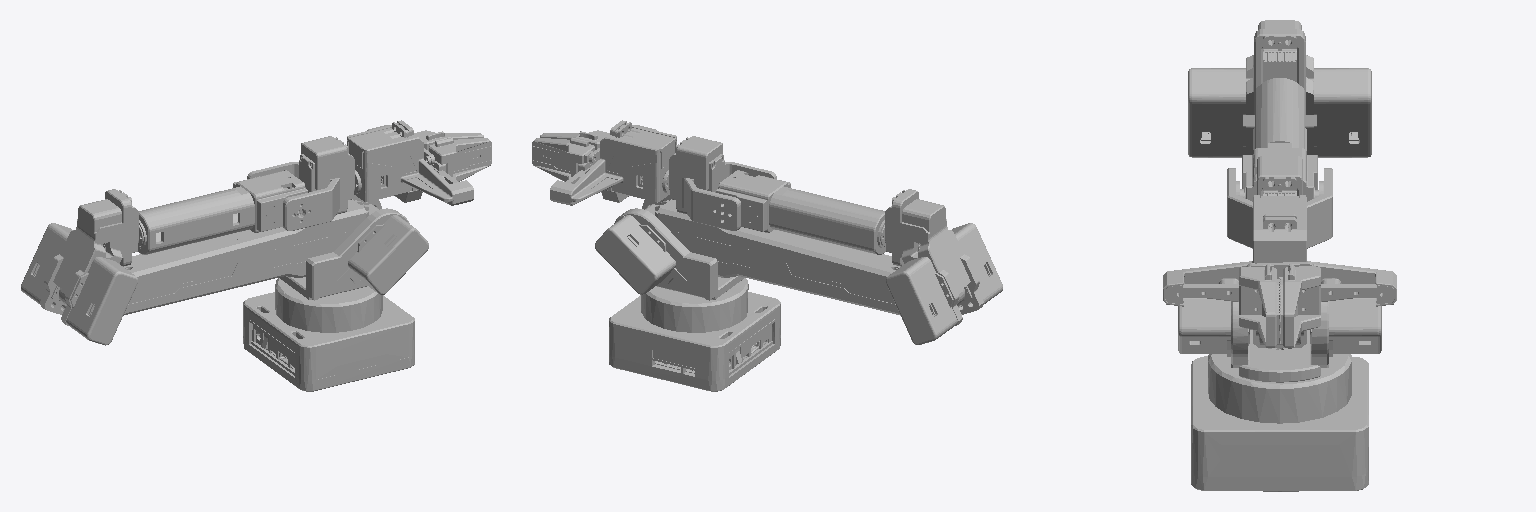
robot.urdf — zyarm_x1_standard:
<?xml version="1.0" encoding="utf-8"?>
<!-- This URDF was automatically created by SolidWorks to URDF Exporter! Originally created by Stephen Brawner (brawner@gmail.com) 
     Commit Version: 1.6.0-4-g7f85cfe  Build Version: 1.6.7995.38578
     For more information, please see http://wiki.ros.org/sw_urdf_exporter -->
<robot
  name="zyarm_x1_standard">
  <link
    name="base_link">
    <inertial>
      <origin
        xyz="0.00091157 -0.00062627 -0.075733"
        rpy="0 0 0" />
      <mass
        value="0.26029" />
      <inertia
        ixx="0.00028525"
        ixy="-9.6012E-07"
        ixz="4.2857E-06"
        iyy="0.00026365"
        iyz="-1.2773E-06"
        izz="0.00047532" />
    </inertial>
    <visual>
      <origin
        xyz="0 0 0"
        rpy="0 0 0" />
      <geometry>
        <mesh
          filename="package://zyarm_description/meshes/x1_standard/base_link.STL" />
      </geometry>
      <material
        name="">
        <color
          rgba="0.75294 0.75294 0.75294 1" />
      </material>
    </visual>
    <collision>
      <origin
        xyz="0 0 0"
        rpy="0 0 0" />
      <geometry>
        <mesh
          filename="package://zyarm_description/meshes/x1_standard/base_link.STL" />
      </geometry>
    </collision>
  </link>
  <link
    name="link1">
    <inertial>
      <origin
        xyz="0.018353 -7.2605E-08 -0.013108"
        rpy="0 0 0" />
      <mass
        value="0.12888" />
      <inertia
        ixx="6.1663E-05"
        ixy="1.6593E-10"
        ixz="-1.5674E-05"
        iyy="8.0681E-05"
        iyz="-2.0696E-10"
        izz="8.7038E-05" />
    </inertial>
    <visual>
      <origin
        xyz="0 0 0"
        rpy="0 0 0" />
      <geometry>
        <mesh
          filename="package://zyarm_description/meshes/x1_standard/link1.STL" />
      </geometry>
      <material
        name="">
        <color
          rgba="0.75294 0.75294 0.75294 1" />
      </material>
    </visual>
    <collision>
      <origin
        xyz="0 0 0"
        rpy="0 0 0" />
      <geometry>
        <mesh
          filename="package://zyarm_description/meshes/x1_standard/link1.STL" />
      </geometry>
    </collision>
  </link>
  <joint
    name="joint0"
    type="revolute">
    <origin
      xyz="0 0 0"
      rpy="0 0 0" />
    <parent
      link="base_link" />
    <child
      link="link1" />
    <axis
      xyz="0 0 1" />
    <limit
      lower="-3.1415"
      upper="3.1415"
      effort="0"
      velocity="0" />
  </joint>
  <link
    name="link2">
    <inertial>
      <origin
        xyz="0.1142 -0.0004833 4.5225E-07"
        rpy="0 0 0" />
      <mass
        value="0.18935" />
      <inertia
        ixx="4.7355E-05"
        ixy="1.0633E-05"
        ixz="3.8212E-10"
        iyy="0.00030578"
        iyz="6.2531E-13"
        izz="0.00031996" />
    </inertial>
    <visual>
      <origin
        xyz="0 0 0"
        rpy="0 0 0" />
      <geometry>
        <mesh
          filename="package://zyarm_description/meshes/x1_standard/link2.STL" />
      </geometry>
      <material
        name="">
        <color
          rgba="0.75294 0.75294 0.75294 1" />
      </material>
    </visual>
    <collision>
      <origin
        xyz="0 0 0"
        rpy="0 0 0" />
      <geometry>
        <mesh
          filename="package://zyarm_description/meshes/x1_standard/link2.STL" />
      </geometry>
    </collision>
  </link>
  <joint
    name="joint1"
    type="revolute">
    <origin
      xyz="0.037 0 0"
      rpy="-1.5708 -3.1416 0" />
    <parent
      link="link1" />
    <child
      link="link2" />
    <axis
      xyz="0 0 1" />
    <limit
      lower="0"
      upper="3.1416"
      effort="0"
      velocity="0" />
  </joint>
  <link
    name="link3">
    <inertial>
      <origin
        xyz="0.022342 0.013918 1.0102E-06"
        rpy="0 0 0" />
      <mass
        value="0.11556" />
      <inertia
        ixx="2.8305E-05"
        ixy="-1.401E-05"
        ixz="3.0938E-09"
        iyy="4.826E-05"
        iyz="1.2509E-09"
        izz="5.5117E-05" />
    </inertial>
    <visual>
      <origin
        xyz="0 0 0"
        rpy="0 0 0" />
      <geometry>
        <mesh
          filename="package://zyarm_description/meshes/x1_standard/link3.STL" />
      </geometry>
      <material
        name="">
        <color
          rgba="0.75294 0.75294 0.75294 1" />
      </material>
    </visual>
    <collision>
      <origin
        xyz="0 0 0"
        rpy="0 0 0" />
      <geometry>
        <mesh
          filename="package://zyarm_description/meshes/x1_standard/link3.STL" />
      </geometry>
    </collision>
  </link>
  <joint
    name="joint2"
    type="revolute">
    <origin
      xyz="0.27 0.0024 0"
      rpy="0 0 1.5708" />
    <parent
      link="link2" />
    <child
      link="link3" />
    <axis
      xyz="0 0 1" />
    <limit
      lower="-3.1416"
      upper="0"
      effort="0"
      velocity="0" />
  </joint>
  <link
    name="link4">
    <inertial>
      <origin
        xyz="3.359E-07 0.0002305 0.05375"
        rpy="0 0 0" />
      <mass
        value="0.063014" />
      <inertia
        ixx="9.4194E-05"
        ixy="-1.8203E-13"
        ixz="-4.9372E-12"
        iyy="9.4837E-05"
        iyz="3.6101E-07"
        izz="1.4643E-05" />
    </inertial>
    <visual>
      <origin
        xyz="0 0 0"
        rpy="0 0 0" />
      <geometry>
        <mesh
          filename="package://zyarm_description/meshes/x1_standard/link4.STL" />
      </geometry>
      <material
        name="">
        <color
          rgba="0.75294 0.75294 0.75294 1" />
      </material>
    </visual>
    <collision>
      <origin
        xyz="0 0 0"
        rpy="0 0 0" />
      <geometry>
        <mesh
          filename="package://zyarm_description/meshes/x1_standard/link4.STL" />
      </geometry>
    </collision>
  </link>
  <joint
    name="joint3"
    type="revolute">
    <origin
      xyz="0.039913 0.19 0"
      rpy="1.5708 0 0" />
    <parent
      link="link3" />
    <child
      link="link4" />
    <axis
      xyz="0 0 1" />
    <limit
      lower="-3.1416"
      upper="3.1416"
      effort="0"
      velocity="0" />
  </joint>
  <link
    name="link5">
    <inertial>
      <origin
        xyz="0.0064731 0.033728 0.00014092"
        rpy="0 0 0" />
      <mass
        value="0.055716" />
      <inertia
        ixx="2.4408E-05"
        ixy="-1.842E-06"
        ixz="4.2863E-08"
        iyy="2.7394E-05"
        iyz="2.2654E-07"
        izz="2.3787E-05" />
    </inertial>
    <visual>
      <origin
        xyz="0 0 0"
        rpy="0 0 0" />
      <geometry>
        <mesh
          filename="package://zyarm_description/meshes/x1_standard/link5.STL" />
      </geometry>
      <material
        name="">
        <color
          rgba="0.75294 0.75294 0.75294 1" />
      </material>
    </visual>
    <collision>
      <origin
        xyz="0 0 0"
        rpy="0 0 0" />
      <geometry>
        <mesh
          filename="package://zyarm_description/meshes/x1_standard/link5.STL" />
      </geometry>
    </collision>
  </link>
  <joint
    name="joint4"
    type="revolute">
    <origin
      xyz="0 0 0"
      rpy="-1.5708 0 0" />
    <parent
      link="link4" />
    <child
      link="link5" />
    <axis
      xyz="0 0 1" />
    <limit
      lower="-1.745"
      upper="1.745"
      effort="0"
      velocity="0" />
  </joint>
  <link
    name="link6">
    <inertial>
      <origin
        xyz="0.0056408 7.3513E-06 -0.10669"
        rpy="0 0 0" />
      <mass
        value="0.073553" />
      <inertia
        ixx="6.3575E-05"
        ixy="5.4249E-08"
        ixz="-2.3601E-06"
        iyy="2.4372E-05"
        iyz="5.4471E-09"
        izz="5.8246E-05" />
    </inertial>
    <visual>
      <origin
        xyz="0 0 0"
        rpy="0 0 0" />
      <geometry>
        <mesh
          filename="package://zyarm_description/meshes/x1_standard/link6.STL" />
      </geometry>
      <material
        name="">
        <color
          rgba="0.75294 0.75294 0.75294 1" />
      </material>
    </visual>
    <collision>
      <origin
        xyz="0 0 0"
        rpy="0 0 0" />
      <geometry>
        <mesh
          filename="package://zyarm_description/meshes/x1_standard/link6.STL" />
      </geometry>
    </collision>
  </link>
  <joint
    name="joint5"
    type="revolute">
    <origin
      xyz="0 0 0"
      rpy="1.5708 0 0" />
    <parent
      link="link5" />
    <child
      link="link6" />
    <axis
      xyz="0 0 1" />
    <limit
      lower="-3.1416"
      upper="3.1416"
      effort="0"
      velocity="0" />
  </joint>
  <link
    name="claw1">
    <inertial>
      <origin
        xyz="0.0089049 0.035115 5.5012E-05"
        rpy="0 0 0" />
      <mass
        value="0.020468" />
      <inertia
        ixx="5.8019E-06"
        ixy="-6.6705E-07"
        ixz="-8.8771E-09"
        iyy="2.5773E-06"
        iyz="-2.527E-08"
        izz="4.3825E-06" />
    </inertial>
    <visual>
      <origin
        xyz="0 0 0"
        rpy="0 0 0" />
      <geometry>
        <mesh
          filename="package://zyarm_description/meshes/x1_standard/claw1.STL" />
      </geometry>
      <material
        name="">
        <color
          rgba="0.75294 0.75294 0.75294 1" />
      </material>
    </visual>
    <collision>
      <origin
        xyz="0 0 0"
        rpy="0 0 0" />
      <geometry>
        <mesh
          filename="package://zyarm_description/meshes/x1_standard/claw1.STL" />
      </geometry>
    </collision>
  </link>
  <joint
    name="joint6"
    type="prismatic">
    <origin
      xyz="0 0 -0.18675"
      rpy="1.5708 0 -1.5708" />
    <parent
      link="link6" />
    <child
      link="claw1" />
    <axis
      xyz="1 0 0" />
    <limit
      lower="0"
      upper="0.034"
      effort="0"
      velocity="0" />
  </joint>
  <link
    name="claw2">
    <inertial>
      <origin
        xyz="0.0089049 0.035115 5.5012E-05"
        rpy="0 0 0" />
      <mass
        value="0.020468" />
      <inertia
        ixx="5.8019E-06"
        ixy="-6.6705E-07"
        ixz="-8.8771E-09"
        iyy="2.5773E-06"
        iyz="-2.527E-08"
        izz="4.3825E-06" />
    </inertial>
    <visual>
      <origin
        xyz="0 0 0"
        rpy="0 0 0" />
      <geometry>
        <mesh
          filename="package://zyarm_description/meshes/x1_standard/claw2.STL" />
      </geometry>
      <material
        name="">
        <color
          rgba="0.75294 0.75294 0.75294 1" />
      </material>
    </visual>
    <collision>
      <origin
        xyz="0 0 0"
        rpy="0 0 0" />
      <geometry>
        <mesh
          filename="package://zyarm_description/meshes/x1_standard/claw2.STL" />
      </geometry>
    </collision>
  </link>
  <joint
    name="joint7"
    type="prismatic">
    <origin
      xyz="0 0 -0.18675"
      rpy="1.5708 0 1.5708" />
    <parent
      link="link6" />
    <child
      link="claw2" />
    <axis
      xyz="1 0 0" />
    <limit
      lower="0"
      upper="0.034"
      effort="0"
      velocity="0" />
  </joint>
</robot>

--- Render facts (derived) ---
3 views of the same robot in one strip: view 1: azimuth 30°, elevation 25°; view 2: azimuth 150°, elevation 25°; view 3: azimuth 270°, elevation 25° (orthographic).
Model zyarm_x1_standard with 9 links and 8 joints (6 revolute, 2 prismatic), rooted at base_link, posed all joints at 0.
Links seen in each view (by area): view 1: base_link, link3, link2, link4, link1, link6, link5, claw1, claw2; view 2: base_link, link3, link2, link4, link1, link6, link5, claw2, claw1; view 3: base_link, link3, link1, link6, link4, link5, claw2, claw1.
Link boxes in pixels (<box>): base_link: <box>243,278,414,391</box>; link3: <box>21,189,138,345</box>; link2: <box>59,199,378,315</box>; link4: <box>138,170,307,254</box>; link1: <box>279,195,428,300</box>; link6: <box>347,120,473,205</box>; link5: <box>247,136,354,230</box>; claw1: <box>429,137,491,181</box>; claw2: <box>414,130,483,150</box>; base_link: <box>609,278,780,391</box>; link3: <box>885,189,1002,344</box>; link2: <box>645,199,964,315</box>; link4: <box>716,170,885,254</box>; link1: <box>595,195,744,300</box>; link6: <box>550,120,676,205</box>; link5: <box>669,136,776,230</box>; claw2: <box>532,137,595,181</box>; claw1: <box>540,130,609,149</box>; base_link: <box>1191,354,1368,491</box>; link3: <box>1188,20,1371,157</box>; link1: <box>1178,298,1381,382</box>; link6: <box>1163,195,1396,306</box>; link4: <box>1242,78,1317,201</box>; link5: <box>1227,156,1332,248</box>; claw2: <box>1280,264,1320,347</box>; claw1: <box>1239,264,1279,347</box>.
Size in the robot's own frame: 0.3967 by 0.138 by 0.1861 metres.
9 mesh visuals loaded from 9 distinct referenced files (9 binary STL).
